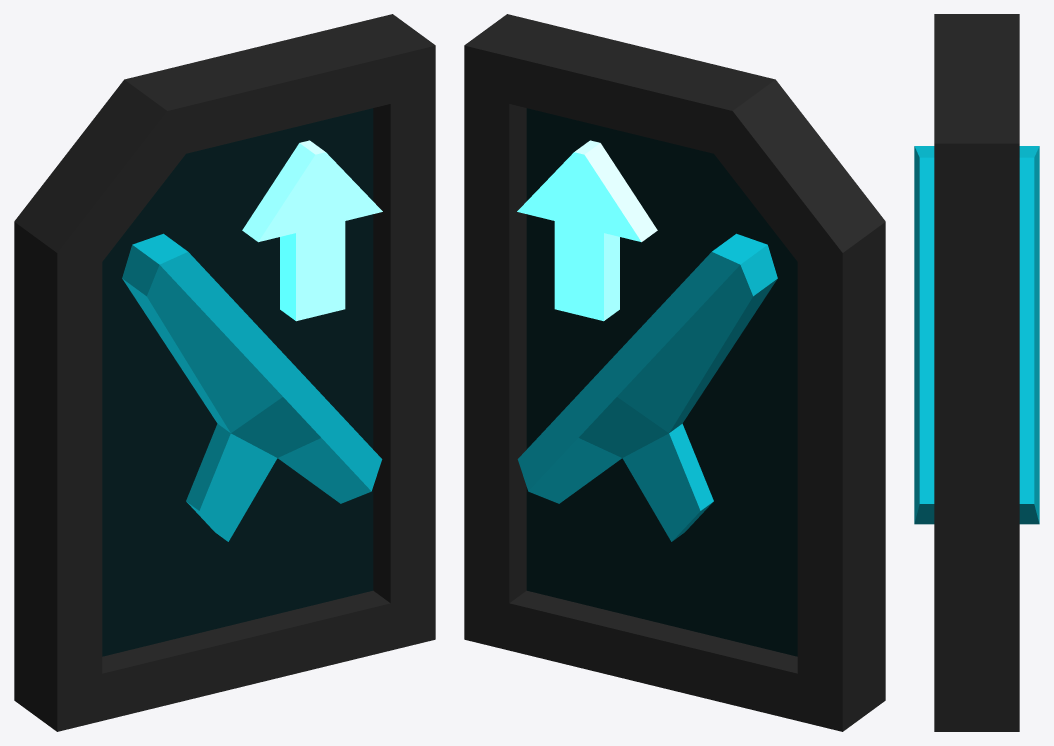
The model's file is AttackSpeedUpgrade.fbx.
3 renders of one model, left to right at view 1: azimuth 30°, elevation 25°; view 2: azimuth 150°, elevation 25°; view 3: azimuth 270°, elevation 25°, orthographic.
Parts seen in each view (by area): view 1: Cube; view 2: Cube; view 3: Cube.
Part boxes in pixels (x1=…): Cube: x1=14, y1=14, x2=435, y2=731; Cube: x1=464, y1=14, x2=885, y2=731; Cube: x1=914, y1=14, x2=1039, y2=731.
Bounding box in the file's own units: 133 × 200 × 38.56.
